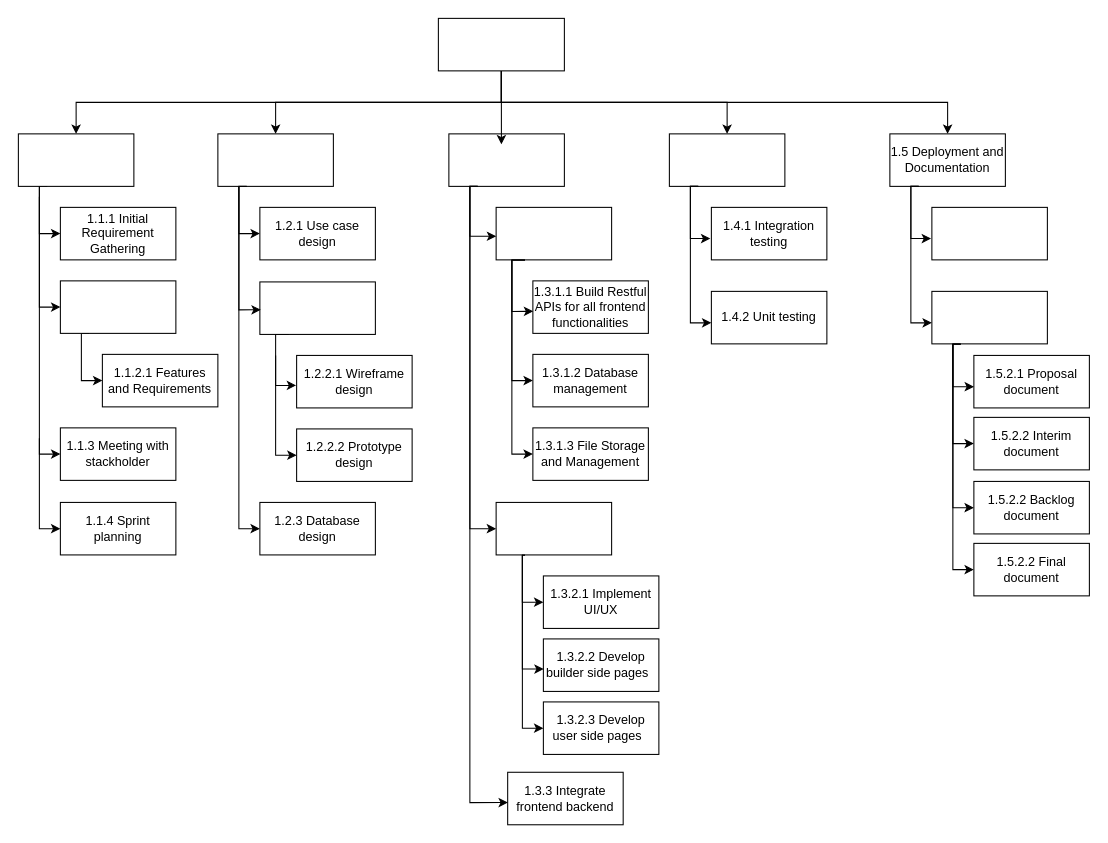
Some shapes in this 1108 by 843 pixel diagram are drawn without their labels. The box of each missing label's shape, as (x1, y1, x2, y2) in pixels:
1. OnSite: (437, 17, 564, 71)
1.1 Project management and planning: (17, 133, 134, 186)
1.1.2 Define Product Backlog: (59, 280, 176, 333)
1.2 Design and Prototype: (217, 133, 333, 186)
1.2.2 UI/UX design: (259, 281, 375, 334)
1.3 Development: (448, 133, 564, 186)
1.3.1 Backend development: (495, 206, 612, 260)
1.3.2 Frontend development: (495, 501, 612, 555)
1.4 Testing: (668, 133, 785, 186)
1.5.1 Deployment: (931, 206, 1047, 260)
1.5.2 Documentation: (931, 290, 1047, 344)
